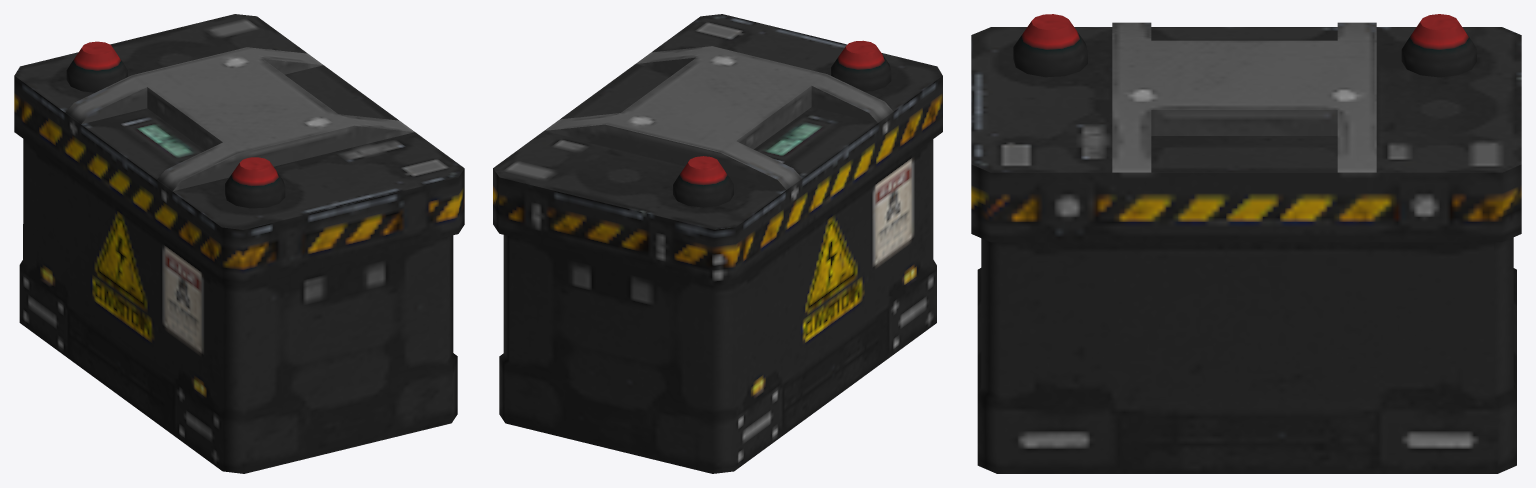
The model's file is CP_Battery.fbx.
3 renders of one model, left to right at view 1: azimuth 30°, elevation 25°; view 2: azimuth 150°, elevation 25°; view 3: azimuth 270°, elevation 25°, orthographic. The views are drawn at different scales.
Visible parts, largest first — view 1: CP_Battery_LOD0; view 2: CP_Battery_LOD0; view 3: CP_Battery_LOD0.
Part boxes in pixels (x1=…): CP_Battery_LOD0: x1=14, y1=14, x2=464, y2=473; CP_Battery_LOD0: x1=493, y1=14, x2=942, y2=473; CP_Battery_LOD0: x1=971, y1=14, x2=1521, y2=473.
Size of what is drawn, in the model's own units: 28.55 by 31.31 by 45.5.
